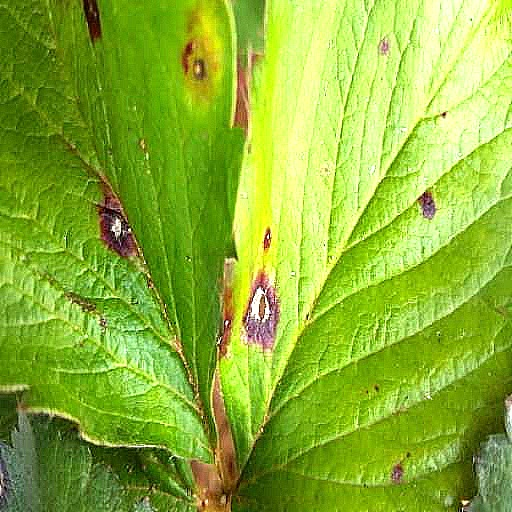Leaf Spot: (0, 0, 291, 511), (263, 47, 511, 511)
